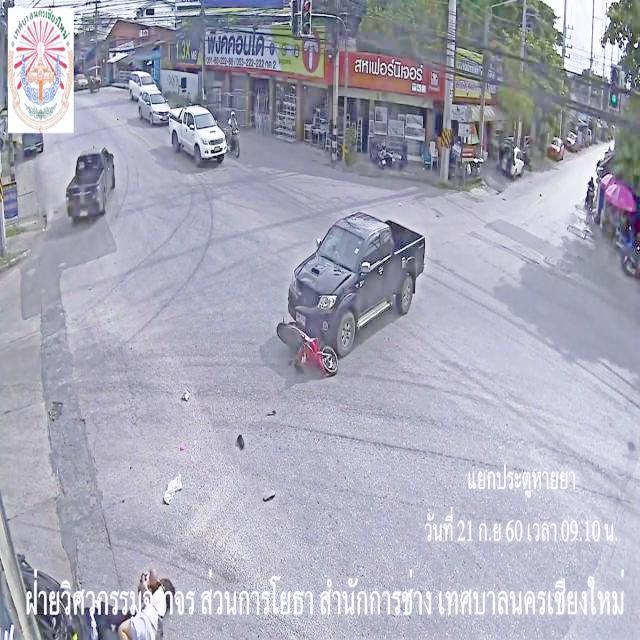Car: (52, 138, 126, 234), (164, 106, 231, 167), (118, 62, 162, 102), (136, 84, 168, 124)
Minor Accident: (278, 206, 426, 367)
Motor: (262, 302, 348, 399)
Not Accident: (130, 70, 239, 166)
